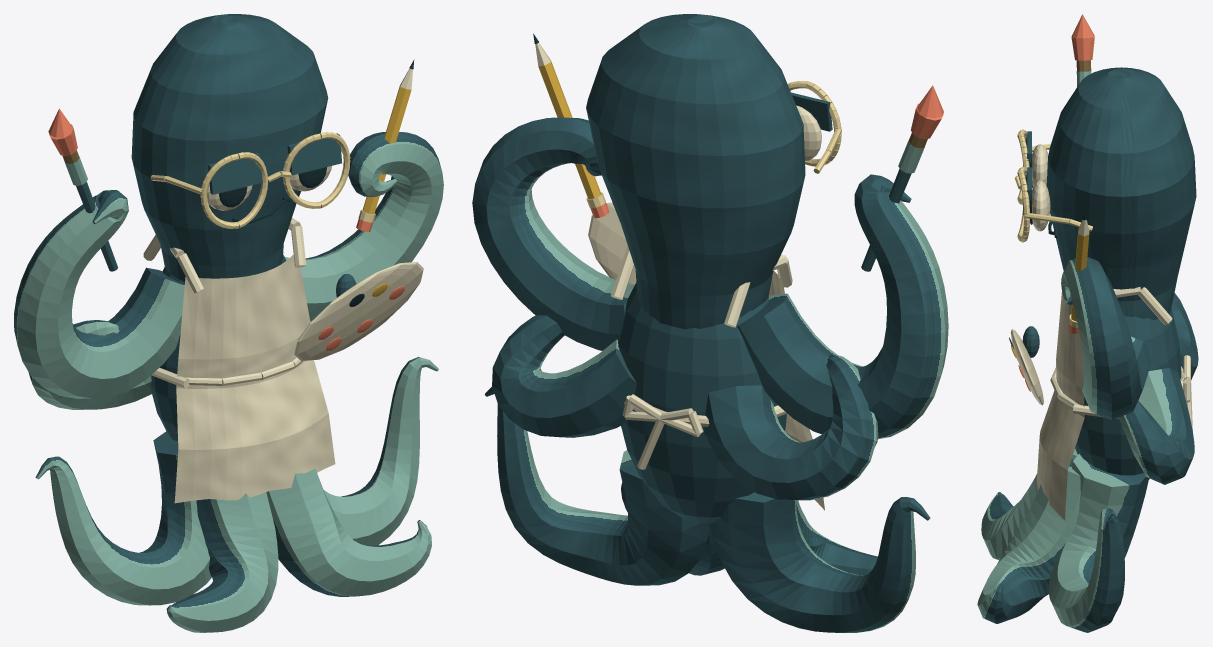
3 renders of one model, left to right at view 1: azimuth 30°, elevation 25°; view 2: azimuth 150°, elevation 25°; view 3: azimuth 270°, elevation 25°, orthographic. The views are drawn at different scales.
Parts seen in each view (by area): view 1: Polvo_Pintor; view 2: Polvo_Pintor; view 3: Polvo_Pintor.
Boxes of the visible parts, box(x1,y1,x2,y2) form: Polvo_Pintor: box(14, 14, 443, 632); Polvo_Pintor: box(472, 14, 948, 632); Polvo_Pintor: box(977, 14, 1198, 632).
Bounding box in the file's own units: 2.41 × 3 × 1.18.
Materials: 1 (1 with a texture image).
